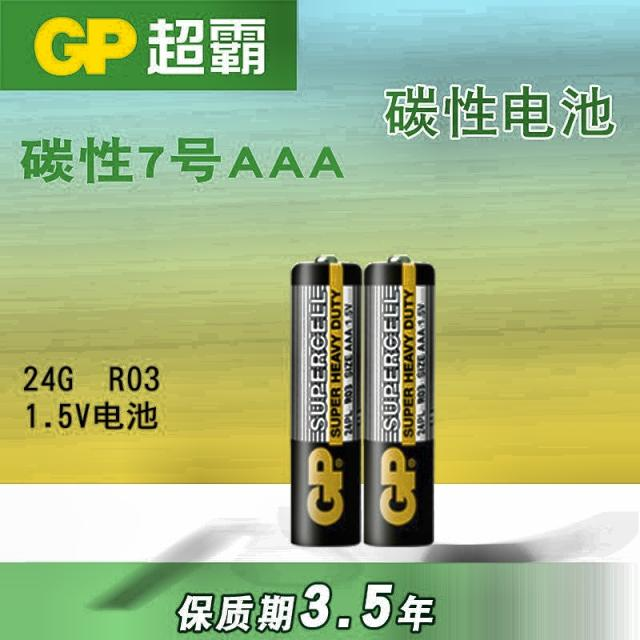Non-Valuable Waste - Batteries: (364, 255, 435, 546), (291, 255, 361, 546)
